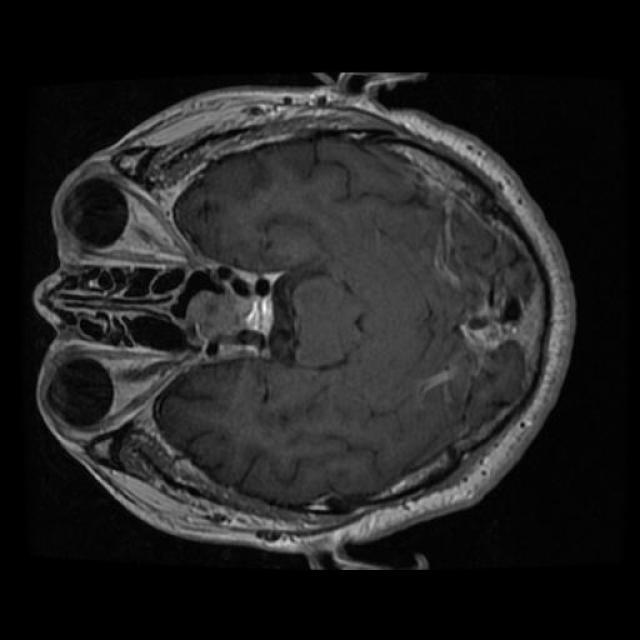Pituitary: (171, 268, 282, 354)
